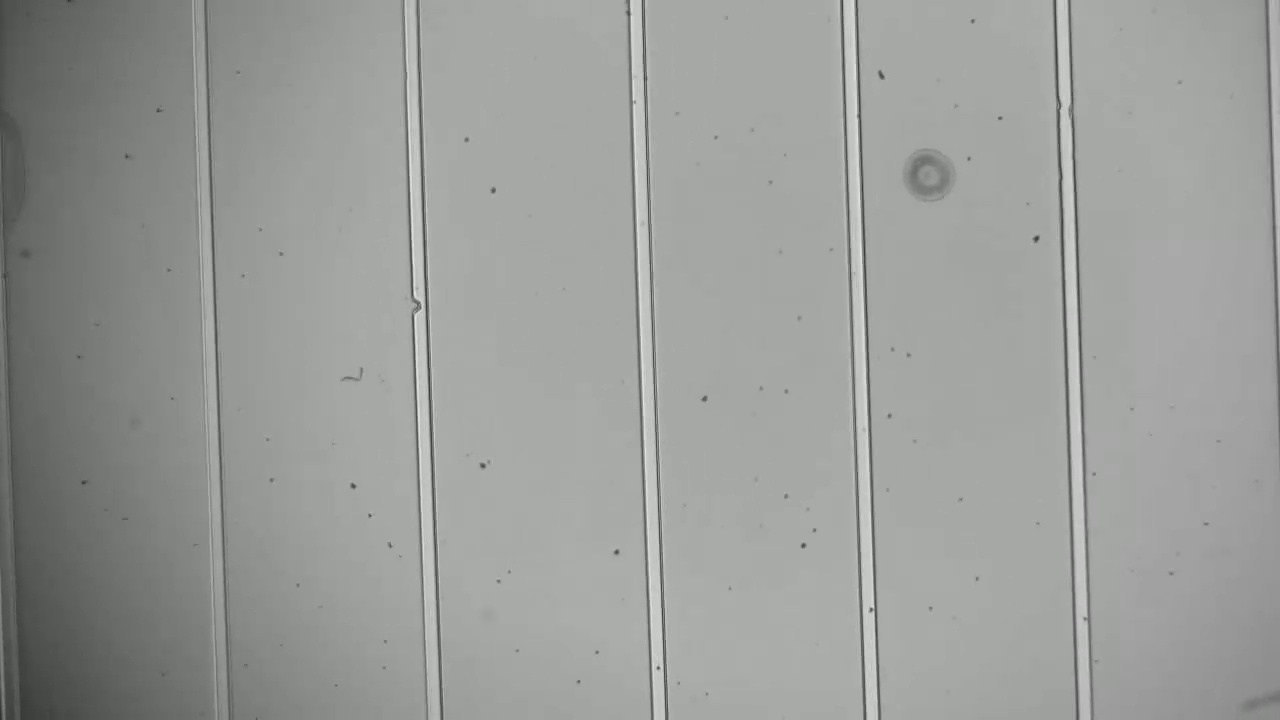edge_bite: (1045, 91, 1082, 130), (401, 291, 435, 322)
